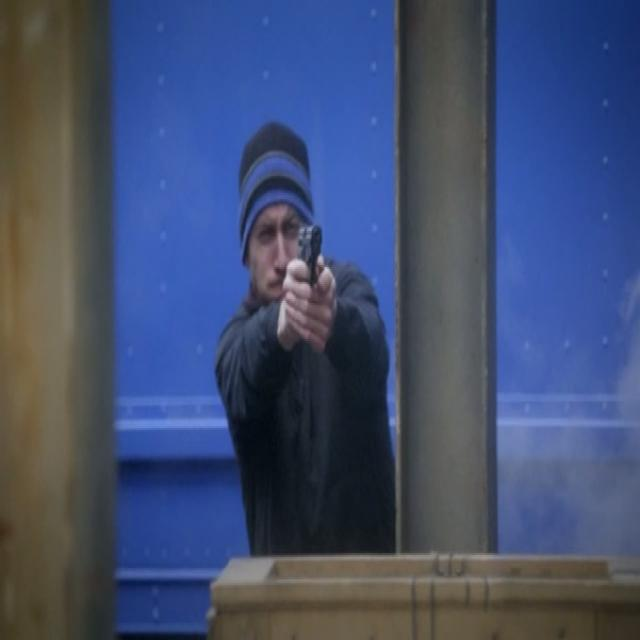weapons: (282, 202, 334, 346)
